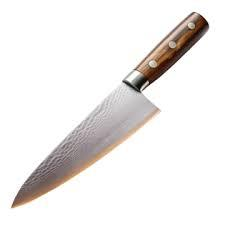Knife: (10, 10, 209, 208)
